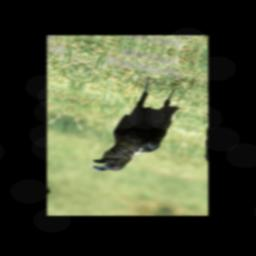Crow: (86, 66, 189, 186)
